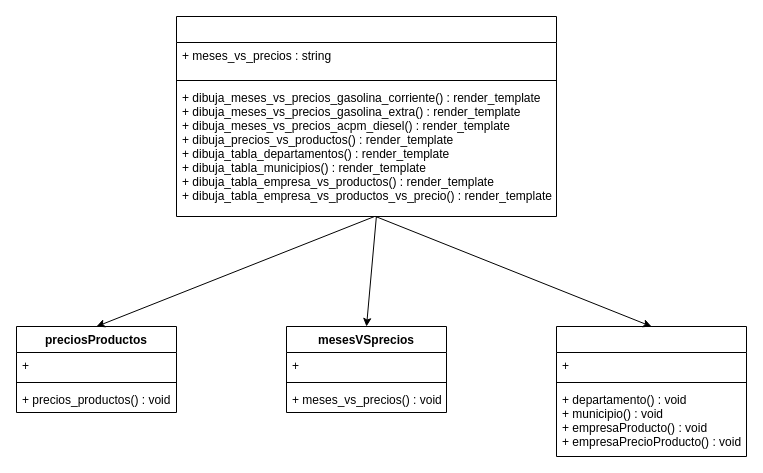
Image size: 763x473. Some labels were removed from this diagram. Here are the shapes that lost their labels. From the top down, the box of each, then its label:
(176, 16, 556, 216): app
(556, 326, 746, 456): tablas
